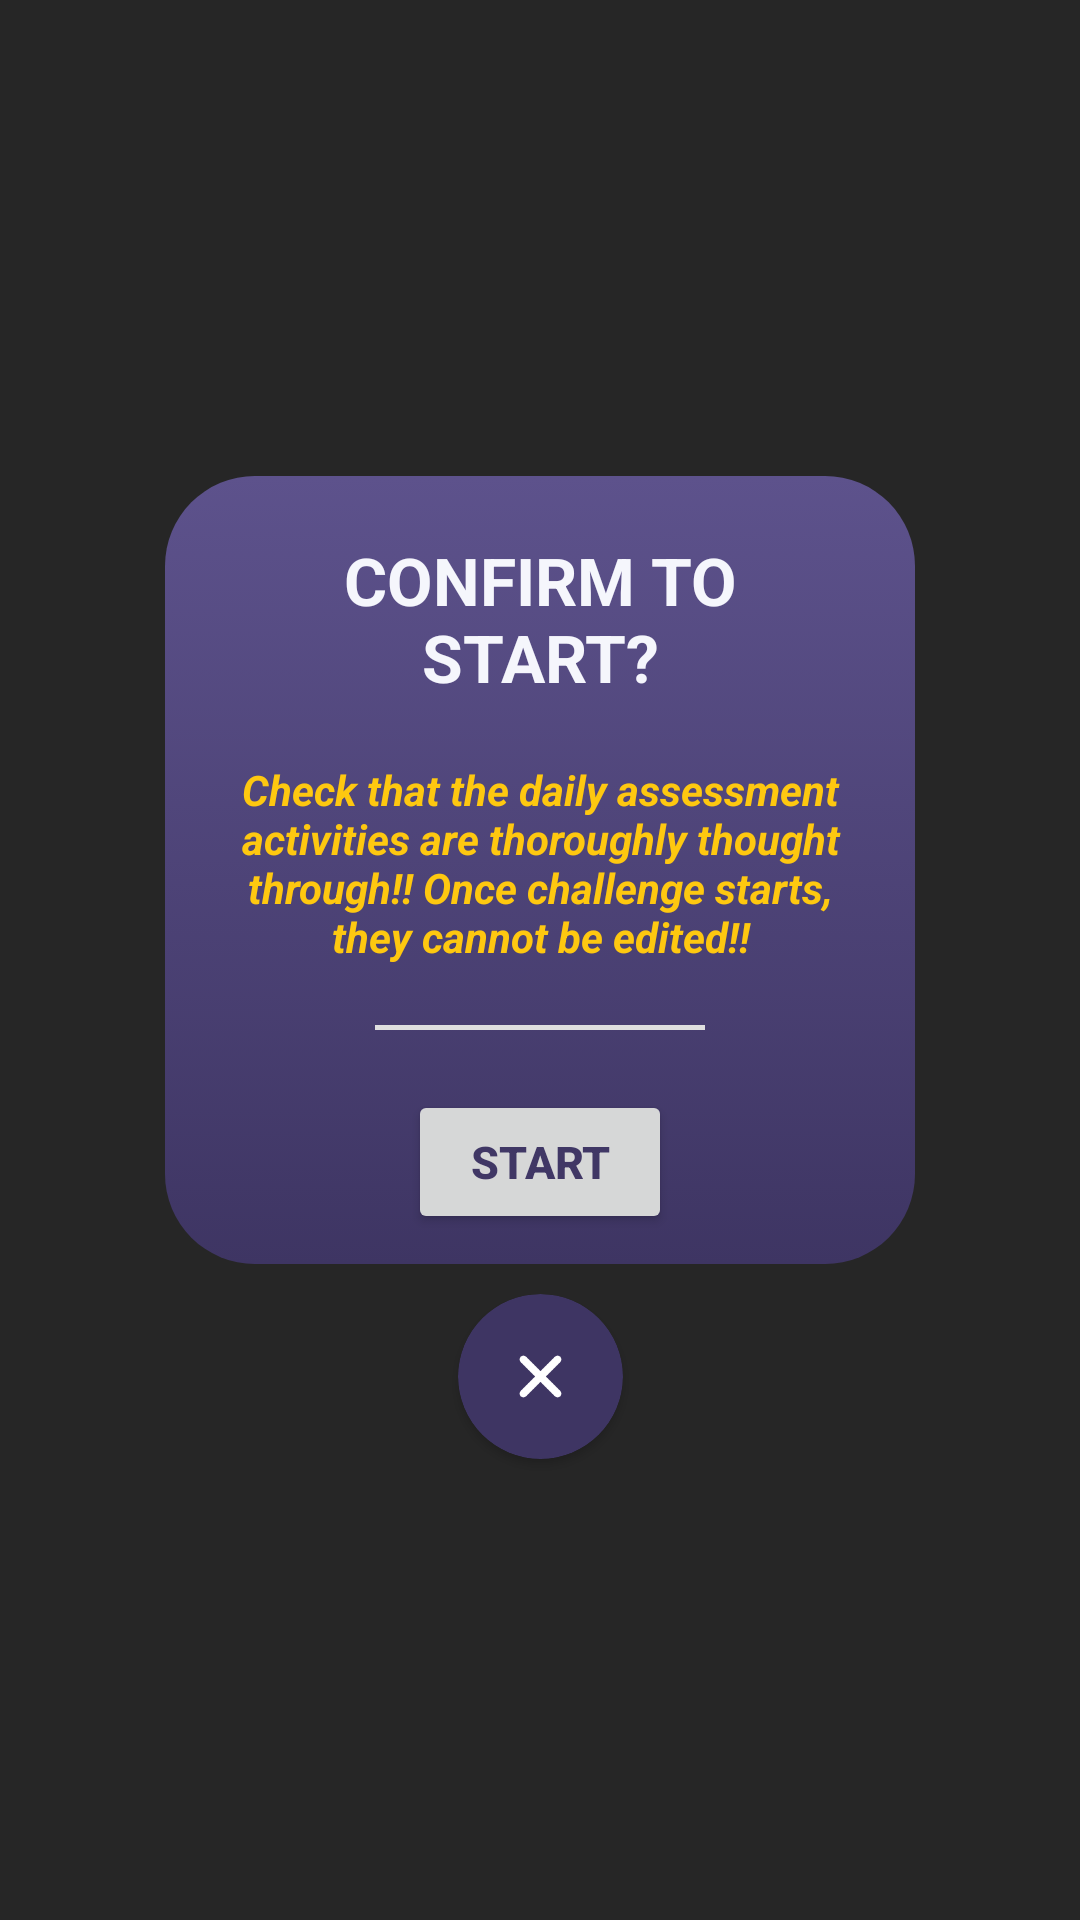

Named icons in this screenshot (1080x1920) and their centers, [x,y]:
cancel: [540,1376]
